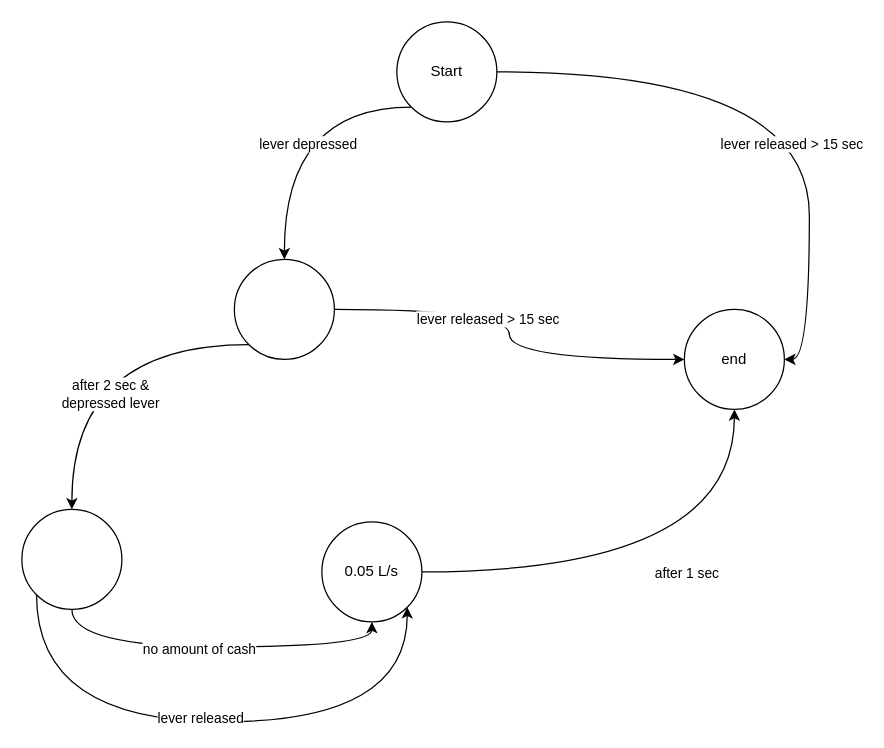
Image size: 884x748. Some labels were removed from this diagram. The shapes that lost their labels are listed below. From the top down, each one's centre as x and y in pixels, then its label:
At point (283, 308): "Begin (0.05 L/s)".
At point (71, 558): "0.3 L/s".
